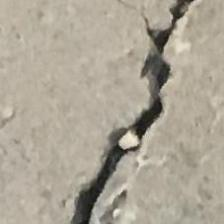Crack: (56, 0, 199, 224)
